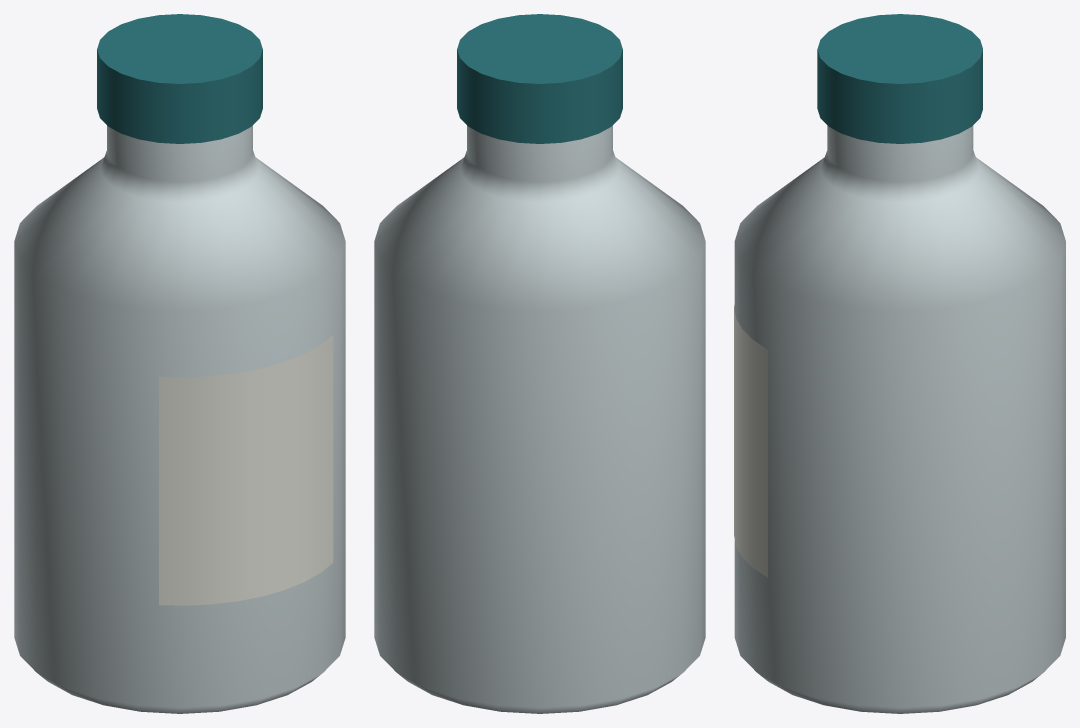
File: VLAB_reagent_bottle.fbx
The picture shows the model from 3 angles, left to right: view 1: azimuth 30°, elevation 25°; view 2: azimuth 150°, elevation 25°; view 3: azimuth 270°, elevation 25°; orthographic projection.
Parts seen in each view (by area): view 1: VLAB_reagent_bottle_Body_VIS, VLAB_reagent_bottle_LabelPlane_VIS, VLAB_reagent_bottle_Cap_VIS; view 2: VLAB_reagent_bottle_Body_VIS, VLAB_reagent_bottle_Cap_VIS; view 3: VLAB_reagent_bottle_Body_VIS, VLAB_reagent_bottle_Cap_VIS, VLAB_reagent_bottle_LabelPlane_VIS.
Boxes of the visible parts, bbox=[...] form: VLAB_reagent_bottle_Body_VIS: bbox=[14, 125, 345, 713]; VLAB_reagent_bottle_LabelPlane_VIS: bbox=[159, 335, 333, 605]; VLAB_reagent_bottle_Cap_VIS: bbox=[97, 14, 262, 143]; VLAB_reagent_bottle_Body_VIS: bbox=[374, 125, 705, 713]; VLAB_reagent_bottle_Cap_VIS: bbox=[457, 14, 622, 143]; VLAB_reagent_bottle_Body_VIS: bbox=[734, 125, 1065, 713]; VLAB_reagent_bottle_Cap_VIS: bbox=[817, 14, 982, 143]; VLAB_reagent_bottle_LabelPlane_VIS: bbox=[734, 305, 767, 577].
Size of the model in its own units: 0.05 by 0.1 by 0.0501.
